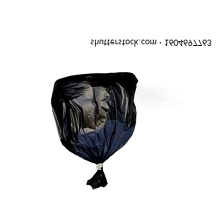plastic_bag: (44, 69, 144, 193)
